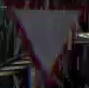Give way: (7, 1, 88, 79)
